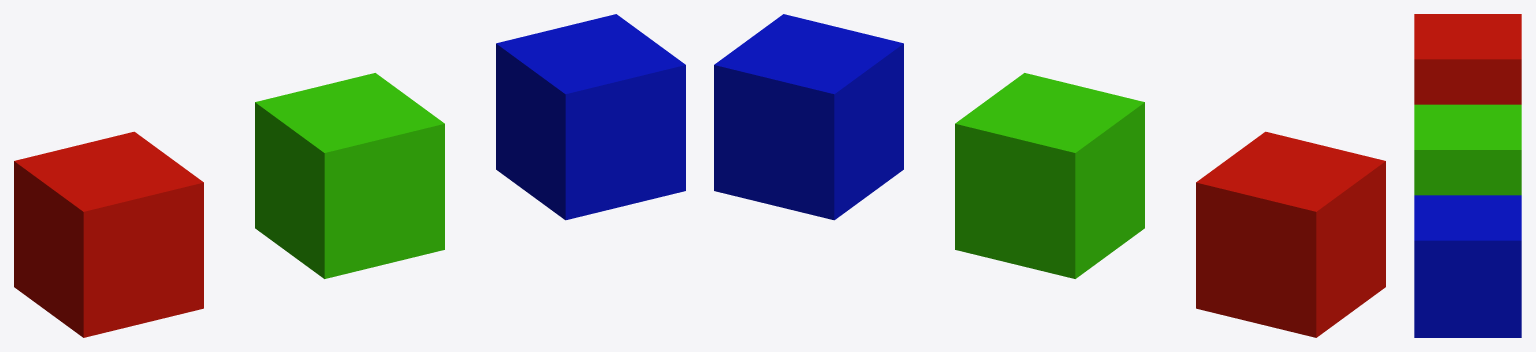
Rendered from boxes.fbx.
3 renders of one model, left to right at view 1: azimuth 30°, elevation 25°; view 2: azimuth 150°, elevation 25°; view 3: azimuth 270°, elevation 25°, orthographic. The views are drawn at different scales.
Visible parts, largest first — view 1: Cube.002, Cube, Cube.001; view 2: Cube.002, Cube, Cube.001; view 3: Cube.002, Cube.001, Cube.
Boxes of the visible parts, x1,y1,x2,y2 form: Cube.002: (496, 14, 685, 220); Cube: (14, 131, 203, 337); Cube.001: (255, 73, 444, 278); Cube.002: (714, 14, 903, 220); Cube: (1196, 131, 1385, 337); Cube.001: (955, 73, 1144, 278); Cube.002: (1414, 195, 1521, 337); Cube.001: (1414, 104, 1521, 195); Cube: (1414, 14, 1521, 104).
Bounding box in the file's own units: 250 × 50 × 50.
